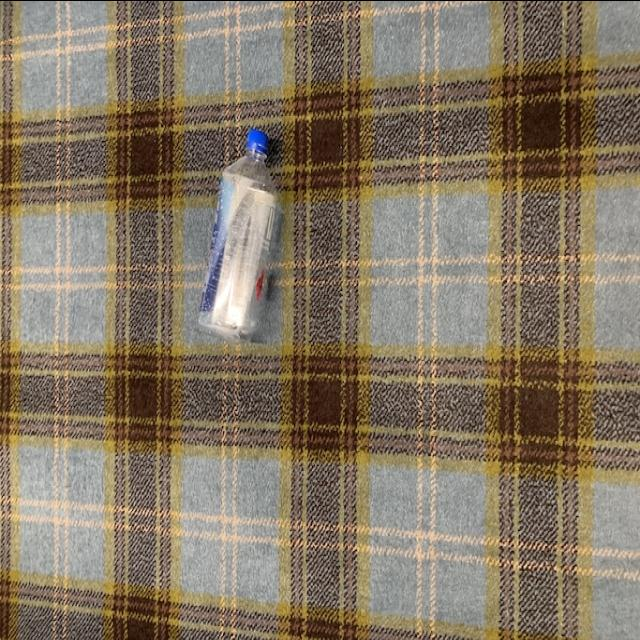litter: (192, 126, 286, 342)
